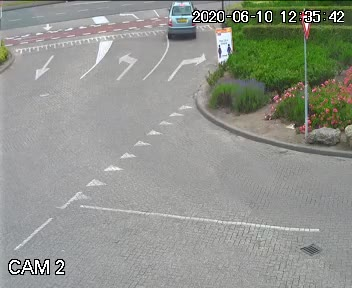car: (164, 0, 202, 43)
